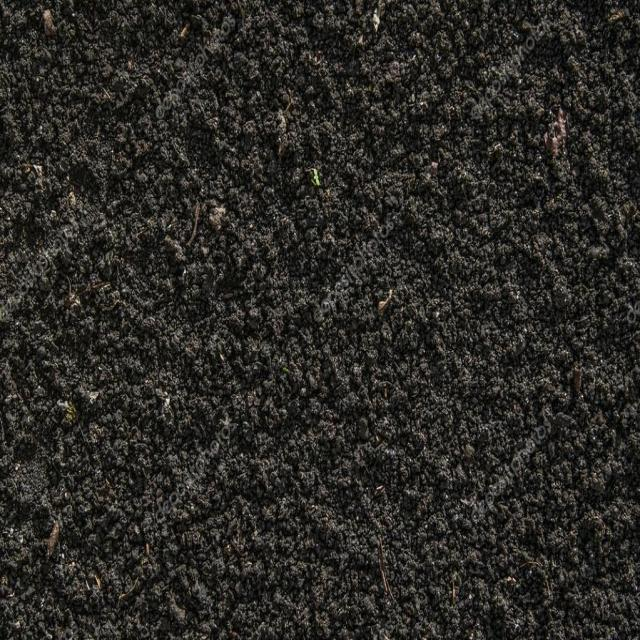Black Soil: (71, 56, 543, 558)
